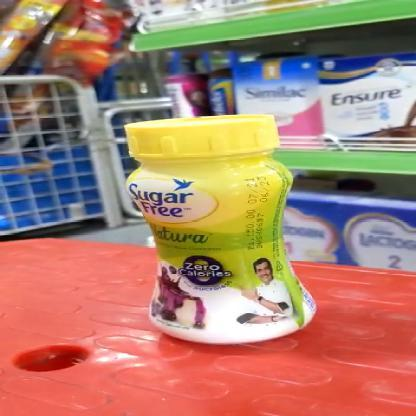SUGAR FREE NATURA_ POWDER_CONC_100G: (121, 113, 319, 347)
